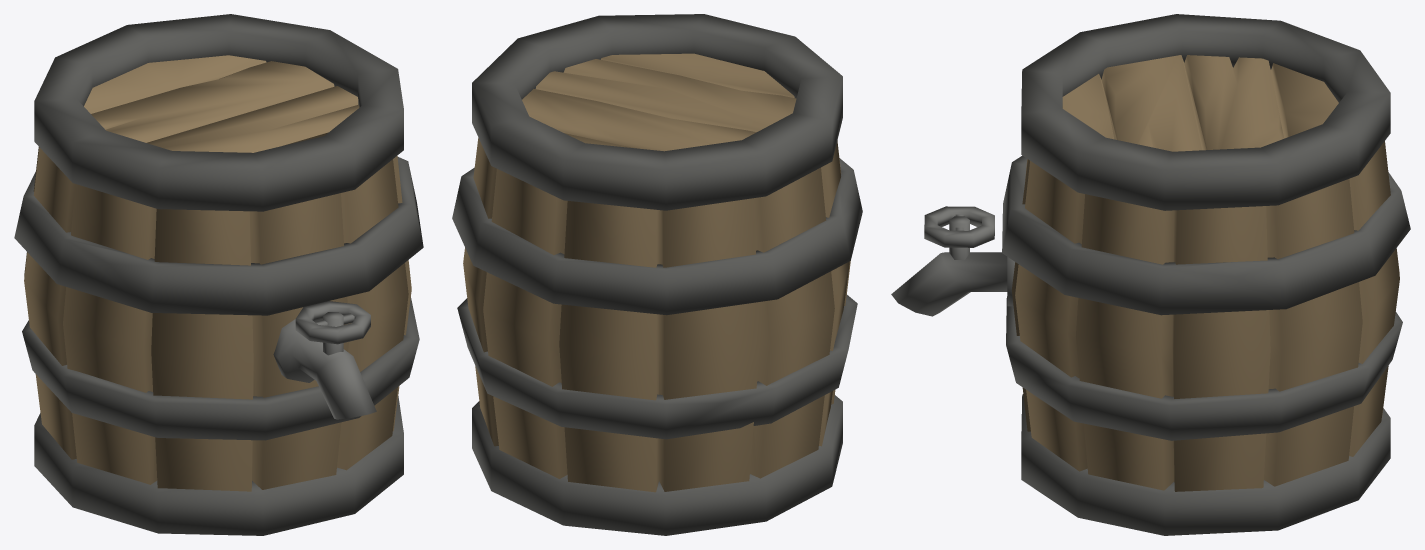
Rendered from rpgpp_ag_barrel_02c.fbx.
3 views of the same model, side by side, from view 1: azimuth 30°, elevation 25°; view 2: azimuth 150°, elevation 25°; view 3: azimuth 270°, elevation 25° (orthographic).
Visible parts, largest first — view 1: rpgpp_ag_barrel_02c; view 2: rpgpp_ag_barrel_02c; view 3: rpgpp_ag_barrel_02c.
Boxes of the visible parts, box(x1,y1,x2,y2) form: rpgpp_ag_barrel_02c: box(14, 14, 423, 535); rpgpp_ag_barrel_02c: box(452, 14, 862, 535); rpgpp_ag_barrel_02c: box(891, 14, 1410, 535).
Size of the model in its own units: 0.9536 by 0.9467 by 1.21.
